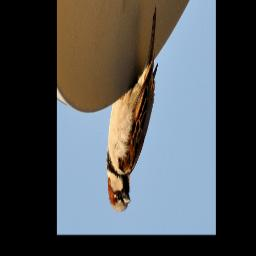Swallow: (106, 5, 158, 212)
